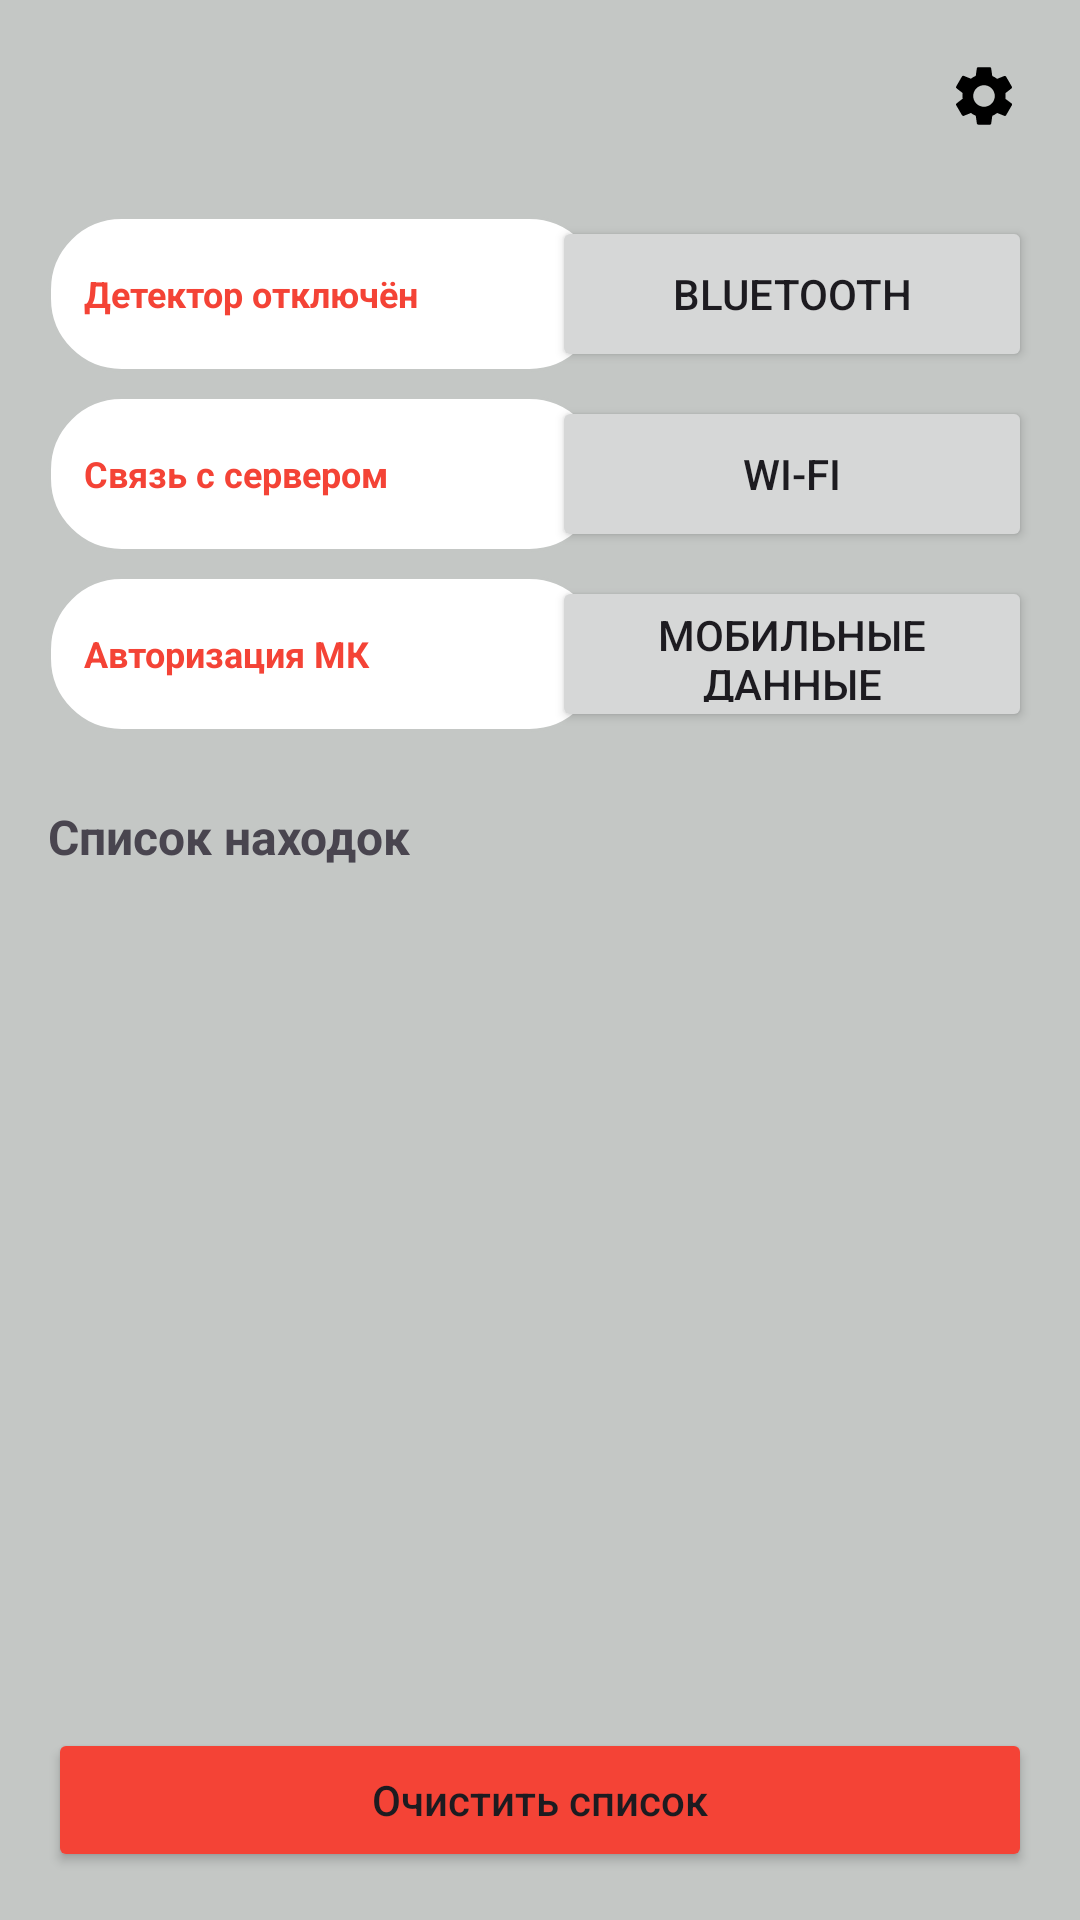

Where to tap for icons on this 1080*1920 app screen, as (x=x, y=y):
Настройки: (x=984, y=96)
